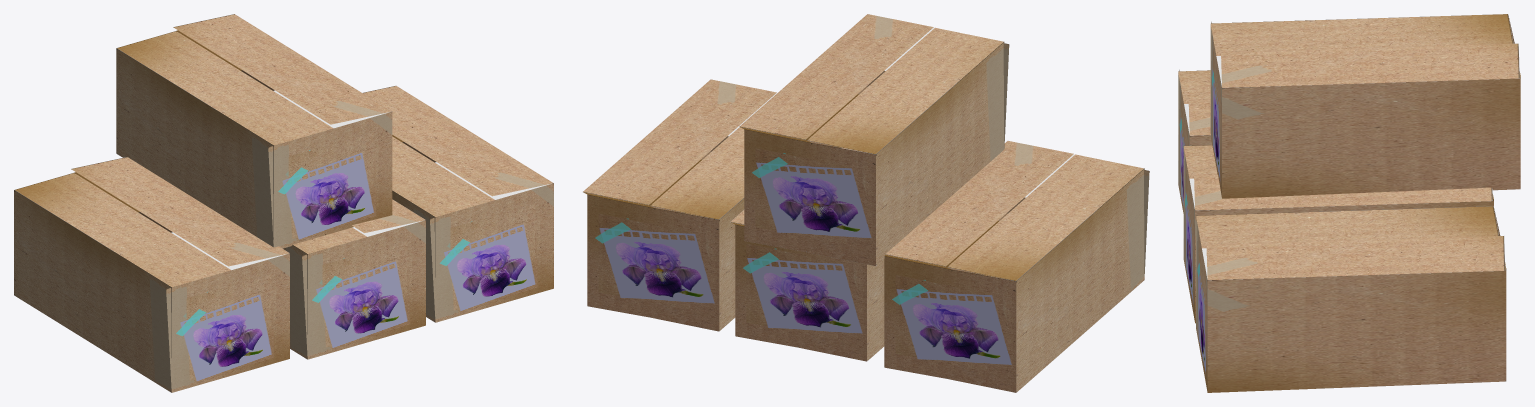
The model's file is cajas_irises.glb.
3 renders of one model, left to right at view 1: azimuth 30°, elevation 25°; view 2: azimuth 150°, elevation 25°; view 3: azimuth 270°, elevation 25°, orthographic. The views are drawn at different scales.
Parts seen in each view (by area): view 1: Cube.005, Cube.004, Cube.001, Cube; view 2: Cube.005, Cube.004, Cube.001, Cube; view 3: Cube.001, Cube.005, Cube, Cube.004.
Boxes of the visible parts, bbox=[...] form: Cube.005: bbox=[116, 14, 392, 248]; Cube.004: bbox=[14, 157, 289, 392]; Cube.001: bbox=[363, 85, 553, 322]; Cube: bbox=[283, 199, 425, 359]; Cube.005: bbox=[739, 14, 1009, 266]; Cube.004: bbox=[884, 141, 1149, 392]; Cube.001: bbox=[583, 79, 776, 331]; Cube: bbox=[730, 147, 884, 361]; Cube.001: bbox=[1196, 206, 1506, 392]; Cube.005: bbox=[1210, 14, 1520, 198]; Cube: bbox=[1183, 145, 1493, 323]; Cube.004: bbox=[1178, 70, 1211, 213].
Size of the model in its own units: 3.57 by 1.75 by 2.39.
3 materials, 3 textured.
